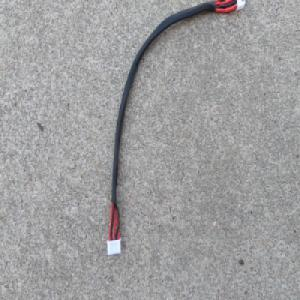Wire: (105, 0, 247, 261)
